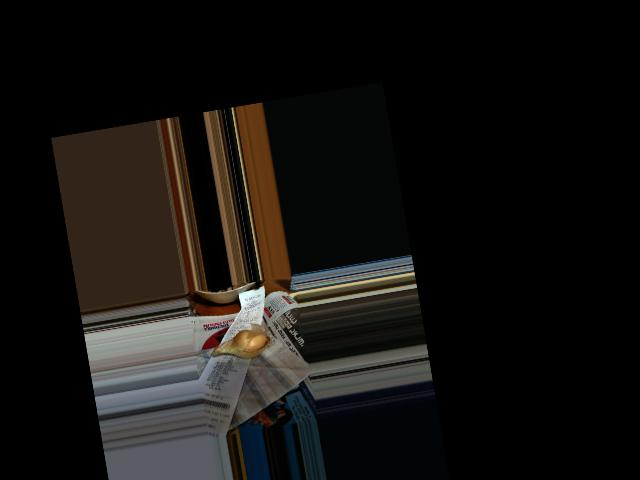onion: (210, 326, 271, 366)
